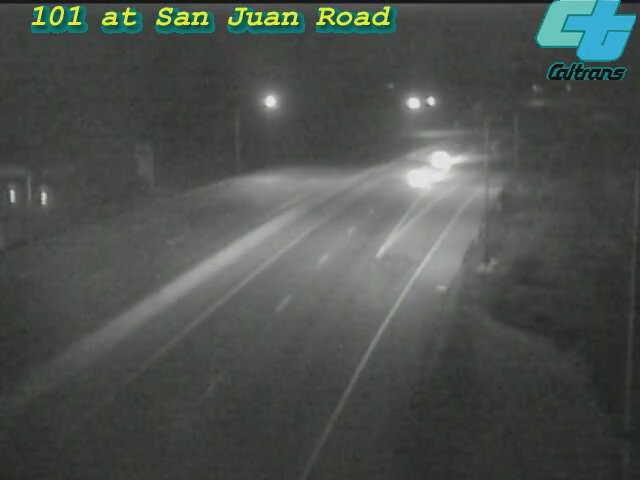vehicle: (400, 119, 480, 199), (380, 137, 460, 217)
